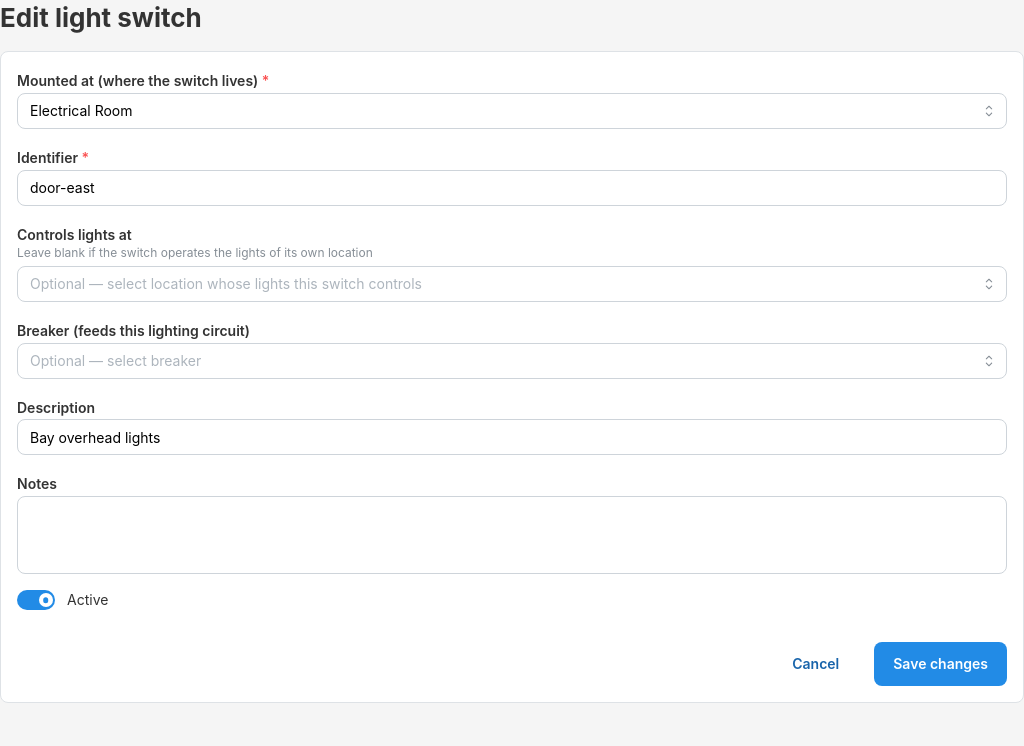
LightSwitchFormPage resilience states › surfaces a save-failure message when the request errors (AC-19)
Expected: the field showing "door-east" is shown, [17, 170, 1007, 206]
Click the button "Save changes" at (941, 664), box [874, 642, 1007, 686]
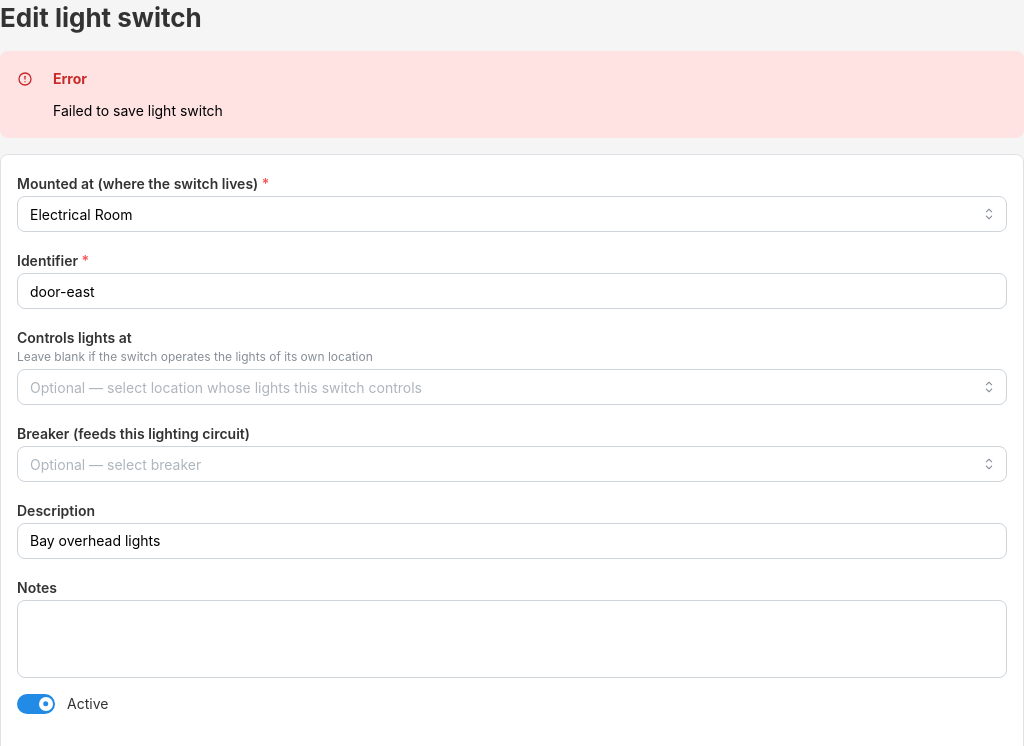
Expected: the text "Failed to save light switch" is shown, [53, 102, 223, 119]
